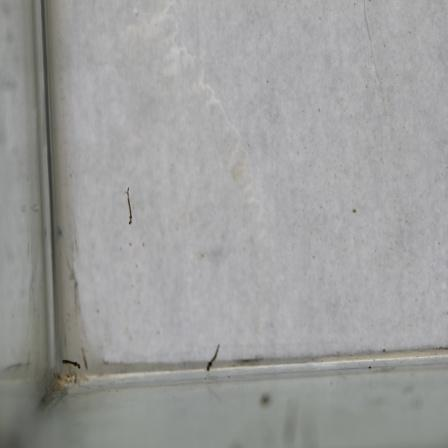Jentik-Nyamuk: (201, 343, 225, 372), (122, 185, 137, 229), (61, 355, 83, 375)
